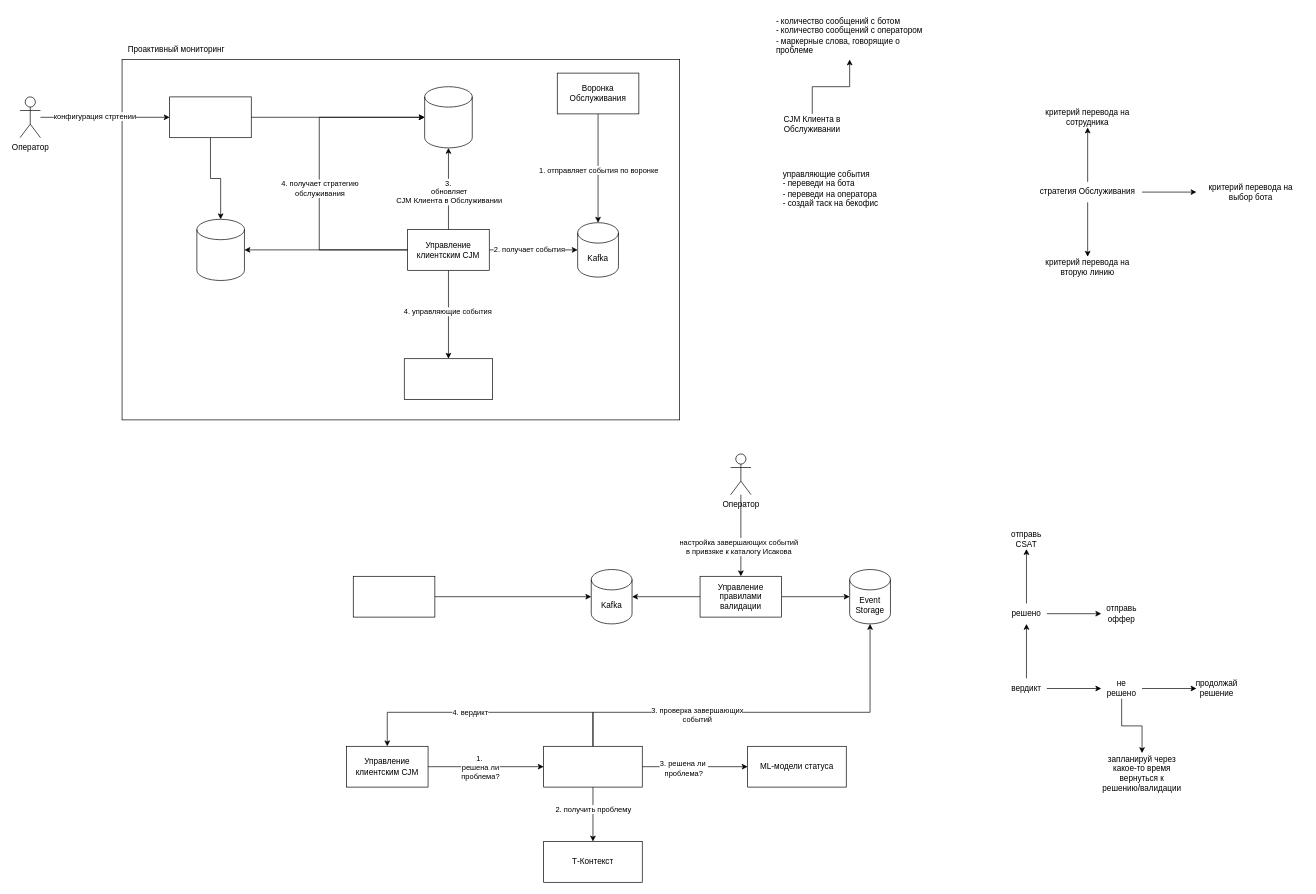
This 1316x894 diagram has some shape labels left out. Here are the shapes that lost their labels. From the top down, the centre of each, then its label:
point (210, 117): Управление стратегией Обслуживания
point (448, 117): БД Страданий
point (220, 249): БД Сегментов
point (448, 379): Dialog Platform
point (394, 596): Внешние системы
point (592, 766): Валидация решения
